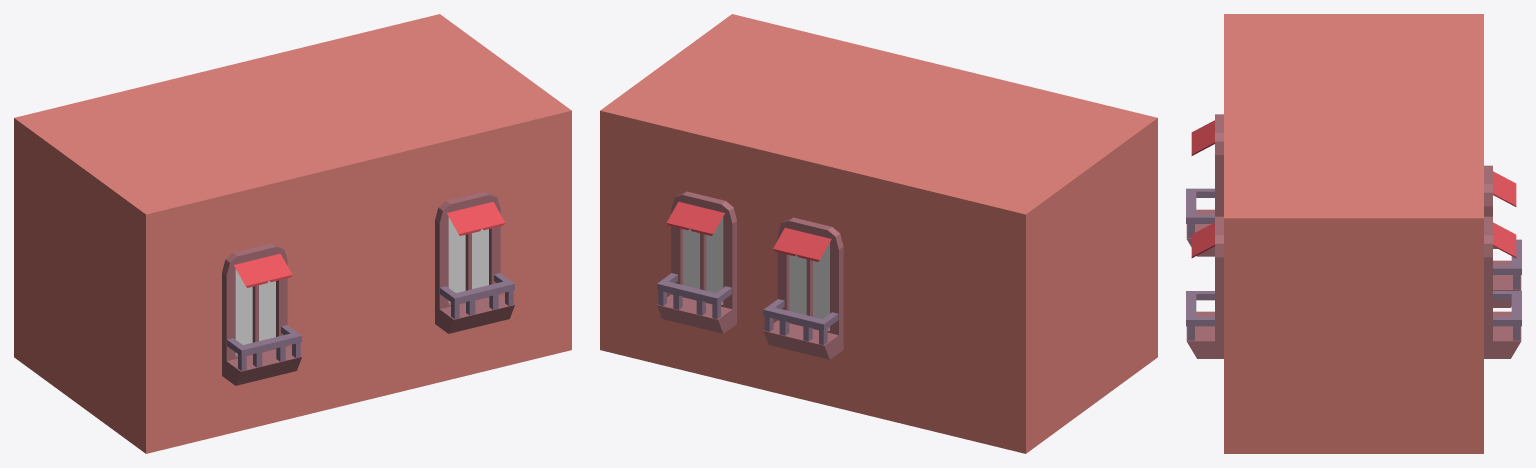
Rendered from HouseBlockSomeWindows.fbx.
3 views of the same model, side by side, from view 1: azimuth 30°, elevation 25°; view 2: azimuth 150°, elevation 25°; view 3: azimuth 270°, elevation 25° (orthographic).
Parts seen in each view (by area): view 1: HouseBlockSomeWindows; view 2: HouseBlockSomeWindows; view 3: HouseBlockSomeWindows.
Part boxes in pixels (left/top/right/bottom): HouseBlockSomeWindows: left=14, top=14, right=571, bottom=453; HouseBlockSomeWindows: left=600, top=14, right=1157, bottom=453; HouseBlockSomeWindows: left=1186, top=14, right=1521, bottom=453.
Size of the model in its own units: 1835 by 986 by 1274.
